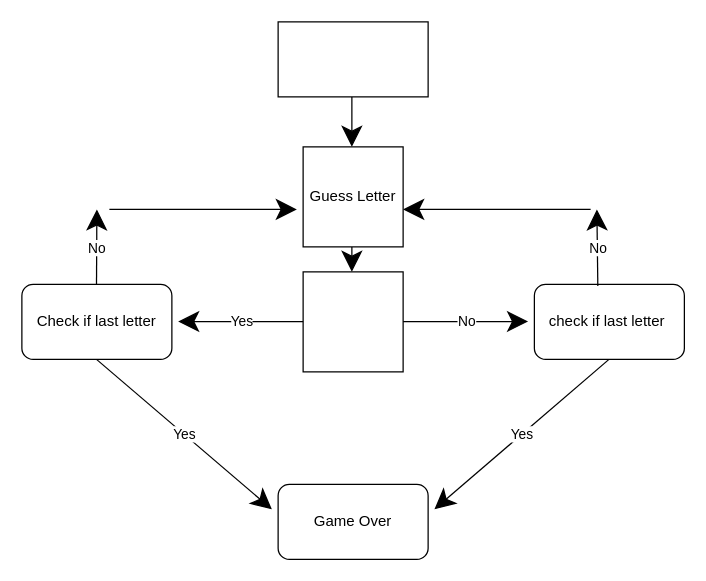
Some shapes in this 706 by 581 pixel diagram are drawn without their labels. The box of each missing label's shape, as (x1, y1, x2, y2) in pixels:
Begin Game: (277, 21, 428, 97)
Guessed Correctly: (302, 271, 403, 372)
